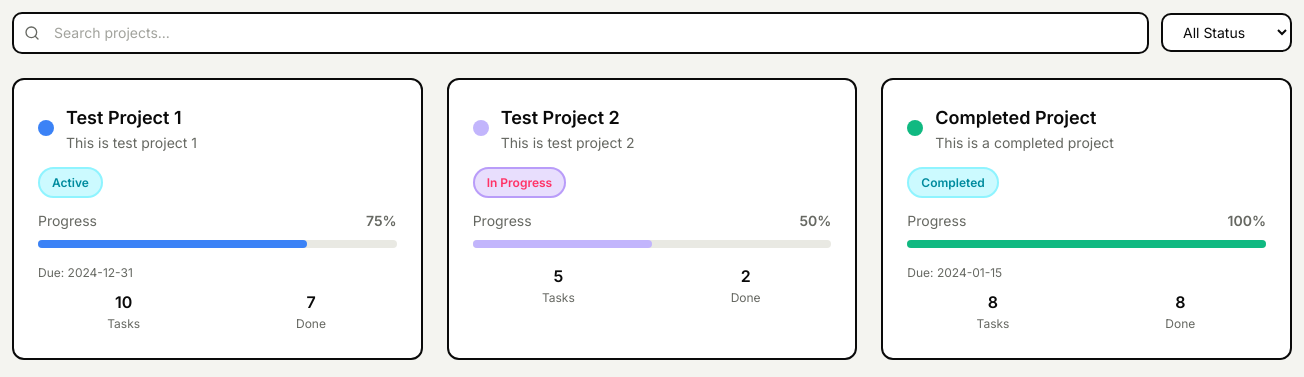
Test: ProjectsList Component › Component Integration › should handle search and filter combination
Type "Test" into the field with placeholder "Search projects...".
click(580, 33); type("Test")  # box [12,12,1149,54]
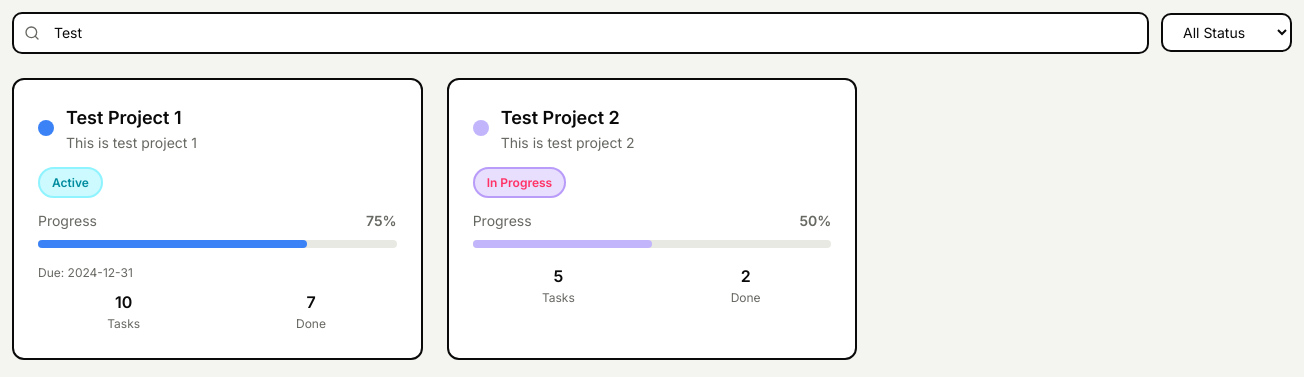
Select "Active" in the dropdown showing "All Status" at (1226, 33), box [1161,13,1292,52]
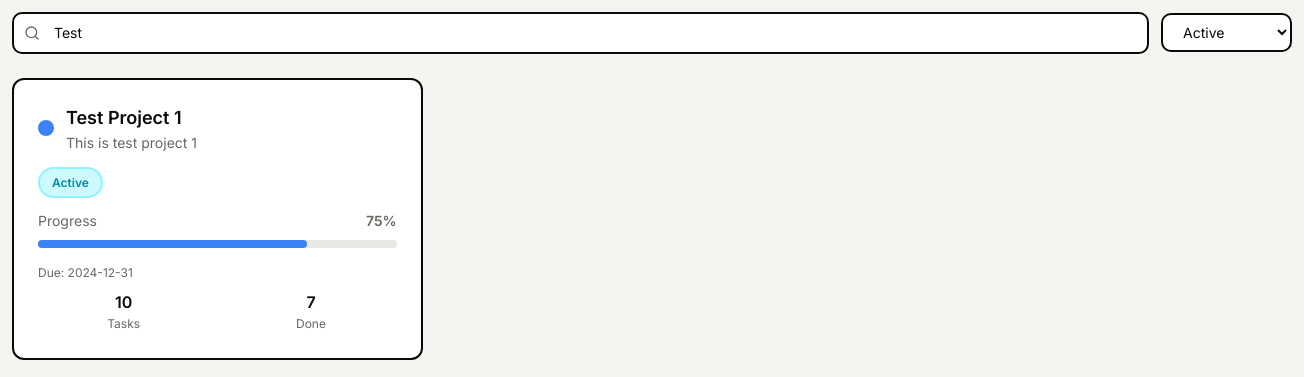
Expected: the heading "Test Project 1" is shown, [66,104,197,132]
Now the heading "Test Project 2" is gone
